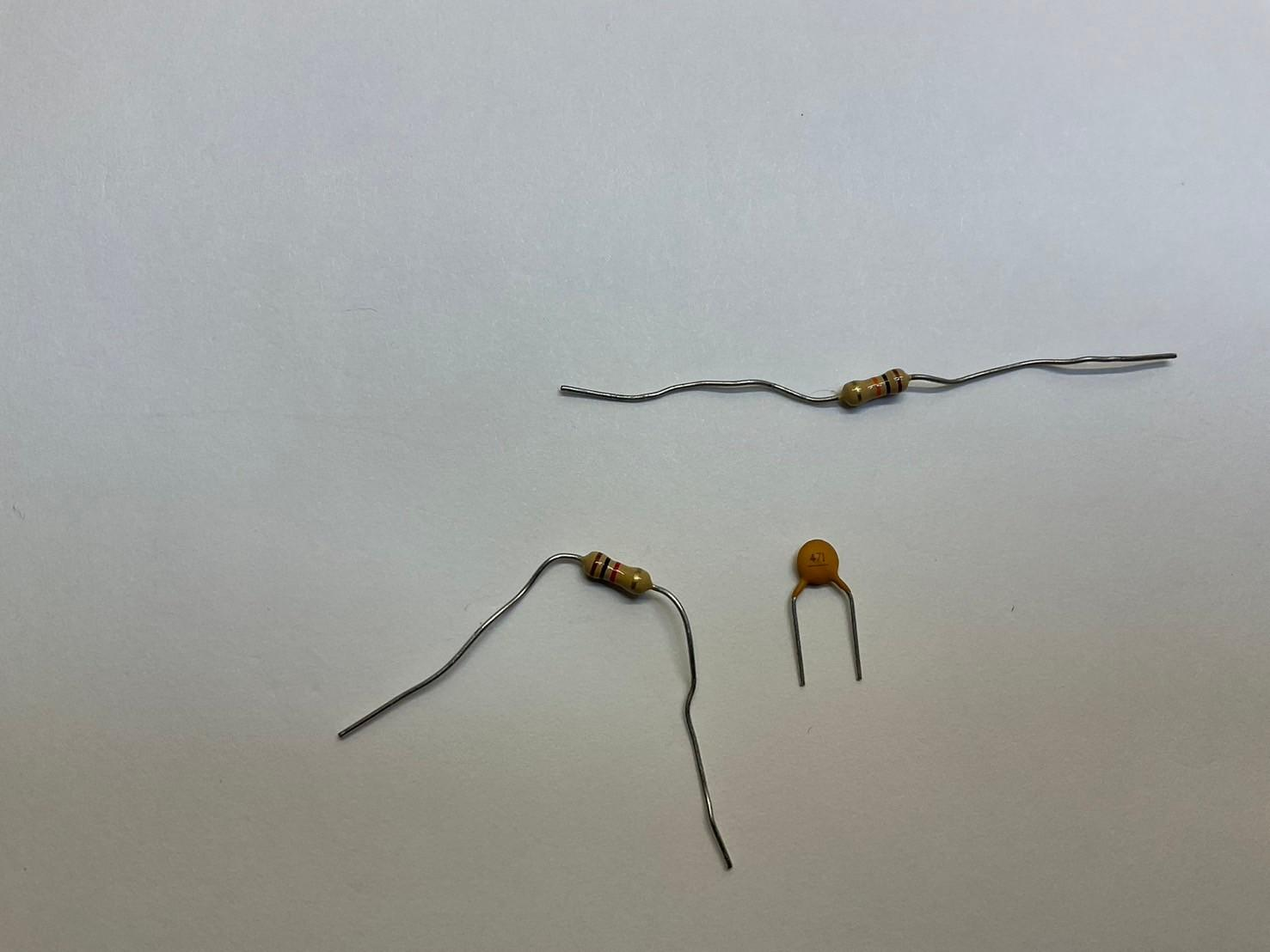resistor: (579, 549, 653, 599), (840, 364, 909, 411)
